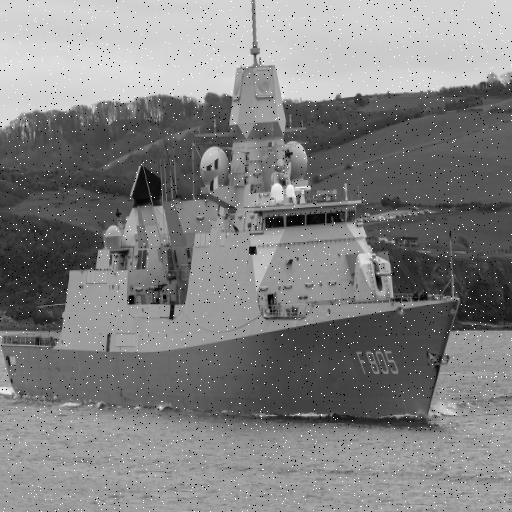Fragata: (1, 1, 461, 428)
